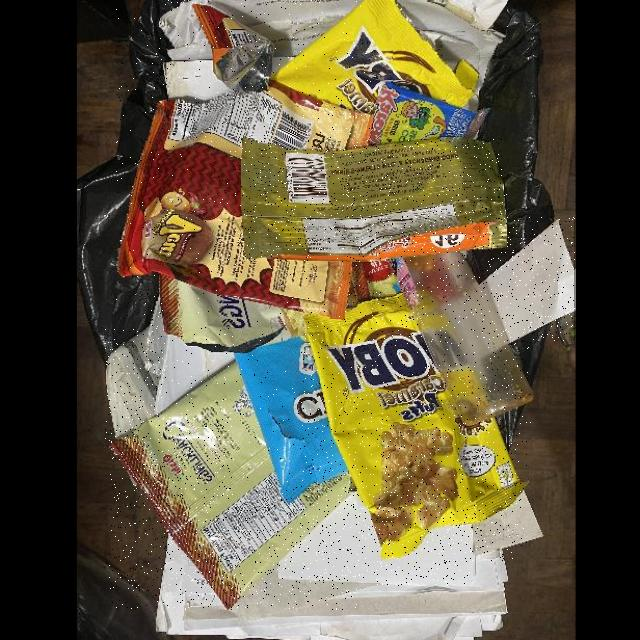paper: (156, 532, 508, 640), (160, 0, 364, 101), (280, 489, 474, 585), (394, 1, 507, 113), (481, 217, 575, 344), (156, 333, 234, 417), (106, 329, 160, 438), (162, 61, 233, 105), (147, 301, 165, 374), (169, 41, 213, 61)
plastic: (386, 253, 531, 423)
wrapper: (117, 4, 372, 319), (109, 354, 357, 609), (301, 292, 527, 561), (242, 138, 508, 260), (235, 331, 348, 505), (156, 274, 288, 353)
